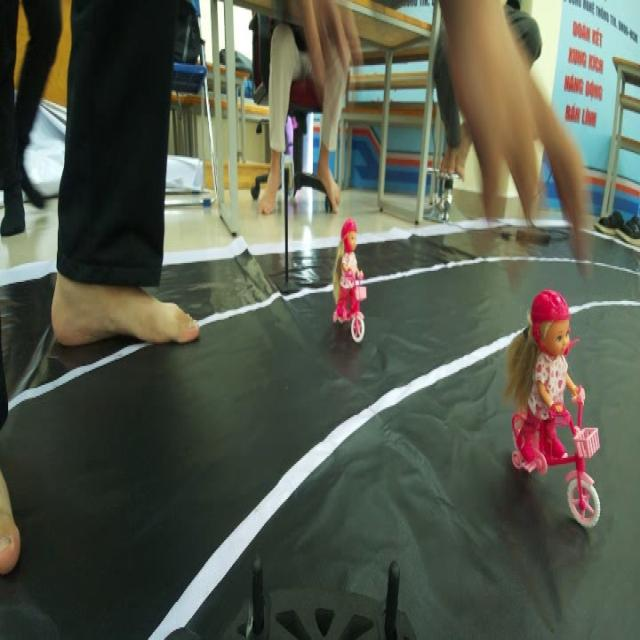pedestrian: (503, 262, 611, 538), (326, 205, 379, 349)
